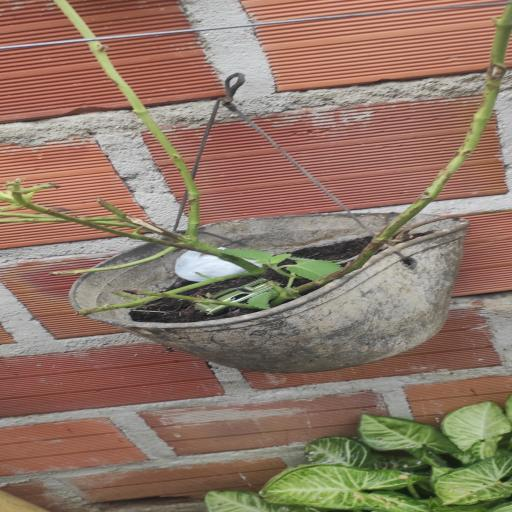Carrito: (210, 279, 275, 304), (196, 304, 227, 315)
